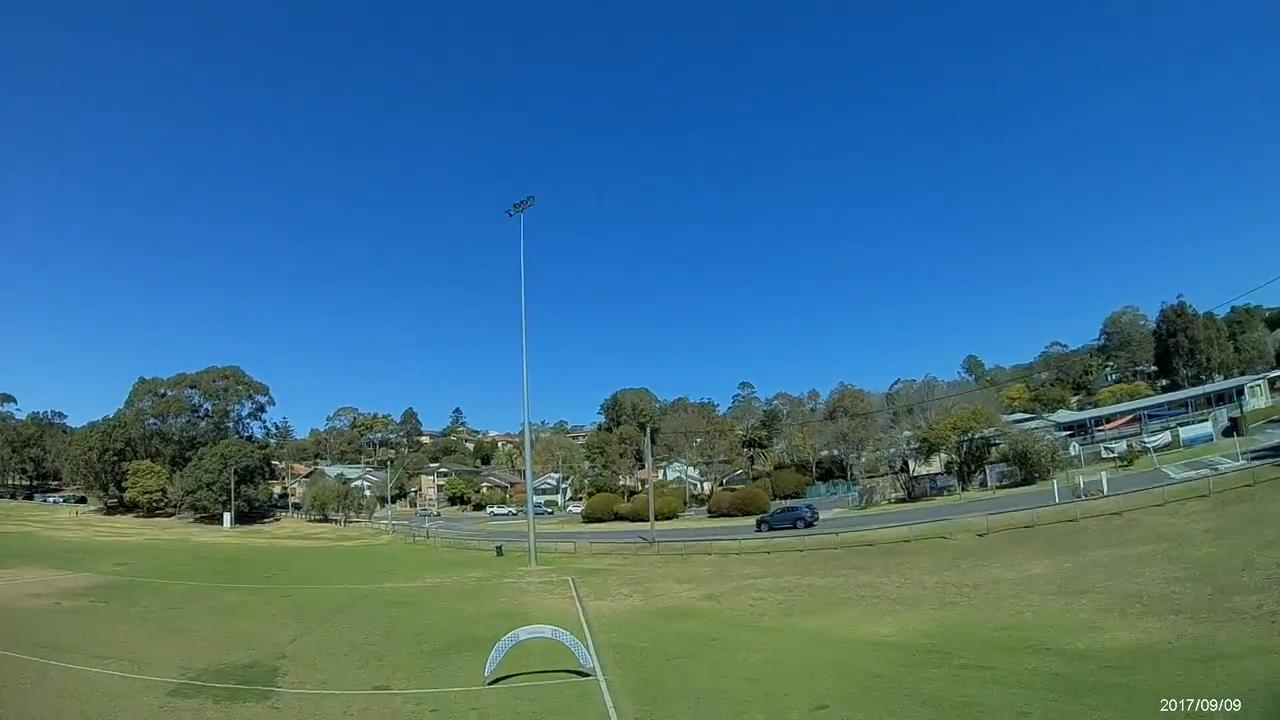gate: (480, 623, 594, 679)
